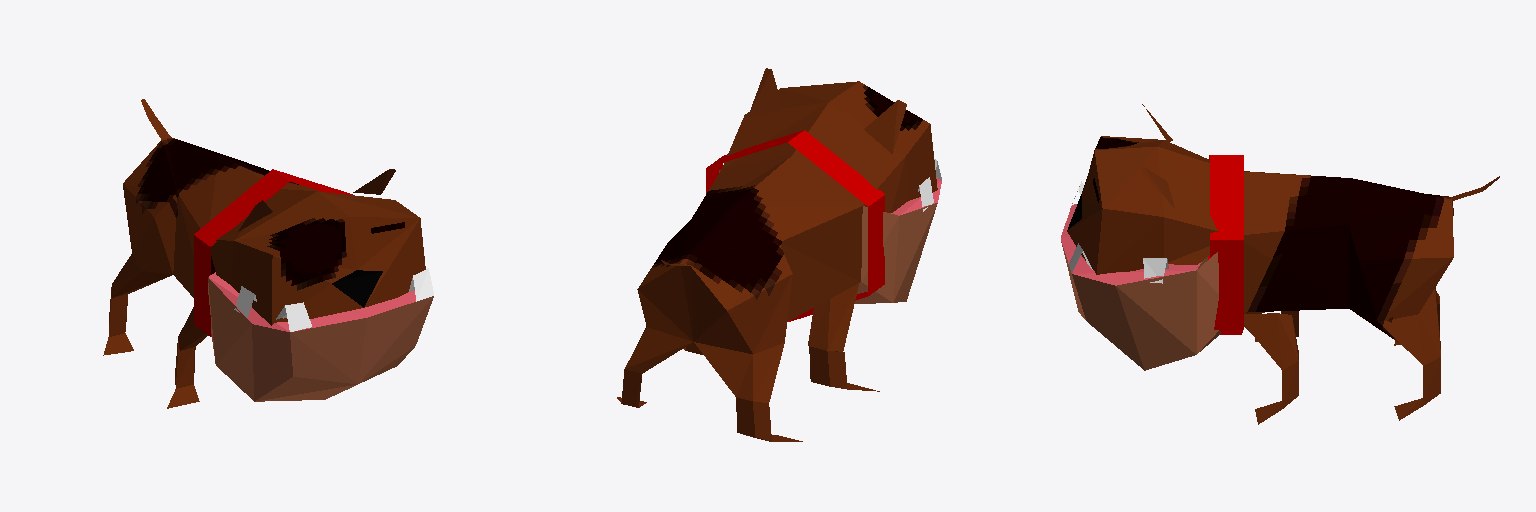
3 views of the same model, side by side, from view 1: azimuth 30°, elevation 25°; view 2: azimuth 150°, elevation 25°; view 3: azimuth 270°, elevation 25° (orthographic).
Visible parts, largest first — view 1: 2; view 2: 2; view 3: 2.
Part boxes in pixels (x1,y1,x2,y2): 2: (103, 99, 433, 408); 2: (617, 68, 941, 441); 2: (1061, 104, 1499, 424).
Bounding box in the file's own units: 9 × 10.31 × 16.94.
Materials: 1 (1 with a texture image).